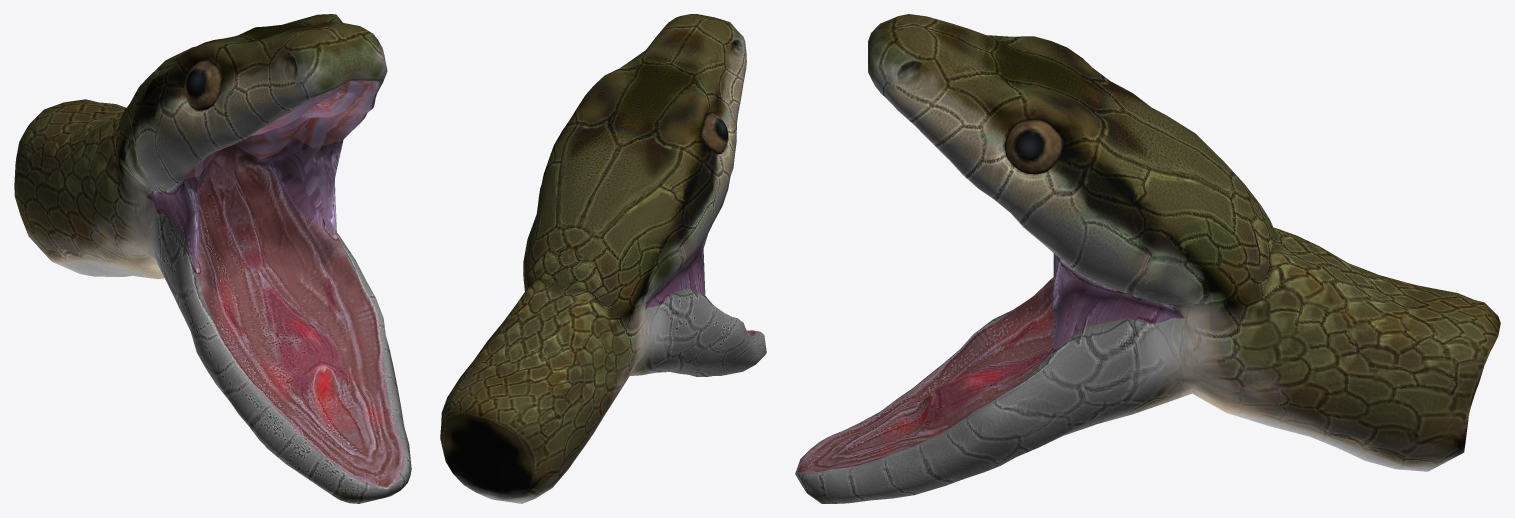
3 renders of one model, left to right at view 1: azimuth 30°, elevation 25°; view 2: azimuth 150°, elevation 25°; view 3: azimuth 270°, elevation 25°, orthographic. The views are drawn at different scales.
Visible parts, largest first — view 1: snake_0; view 2: snake_0; view 3: snake_0.
Boxes of the visible parts, x1=… form: snake_0: x1=14, y1=14, x2=411, y2=503; snake_0: x1=440, y1=14, x2=766, y2=503; snake_0: x1=795, y1=14, x2=1500, y2=503.
Bounding box in the file's own units: 0.76 × 1.64 × 2.22.
Materials: 1 (1 with a texture image).
